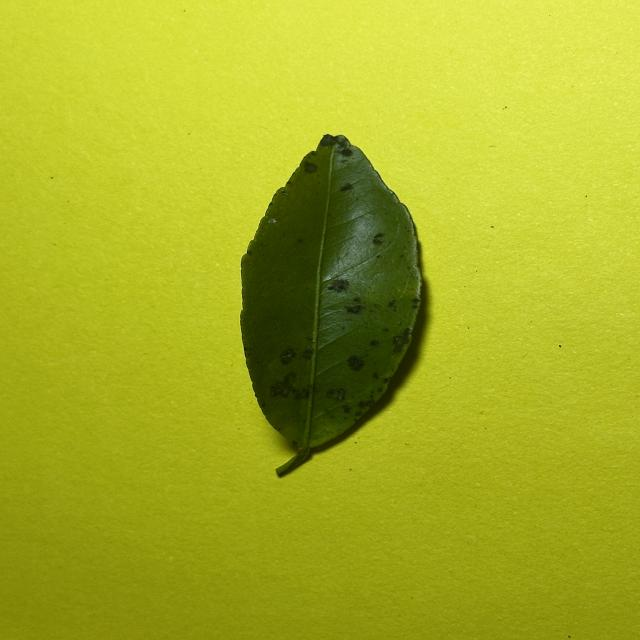sooty_mold: (241, 135, 421, 474)
